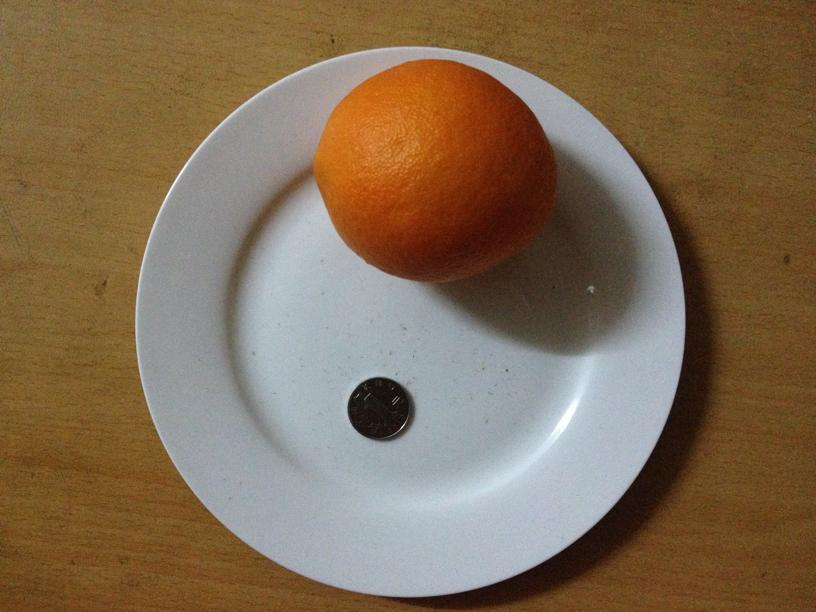coin: (346, 376, 410, 440)
orange: (313, 57, 556, 281)
